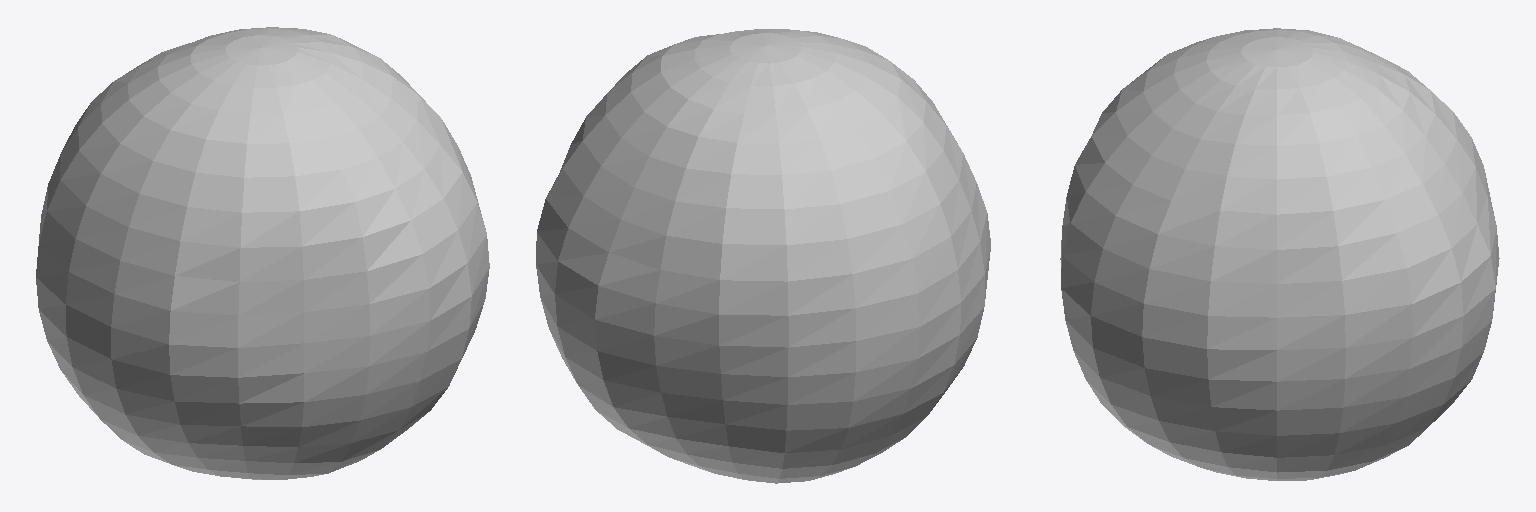
File: moon-01.obj
3 renders of one model, left to right at view 1: azimuth 30°, elevation 25°; view 2: azimuth 150°, elevation 25°; view 3: azimuth 270°, elevation 25°, orthographic.
Visible parts, largest first — view 1: Moon; view 2: Moon; view 3: Moon.
Part boxes in pixels (bbox=[...]): Moon: bbox=[36, 27, 489, 479]; Moon: bbox=[536, 29, 990, 483]; Moon: bbox=[1060, 28, 1499, 480].
Bounding box in the file's own units: 0.7139 × 0.7404 × 0.7075.